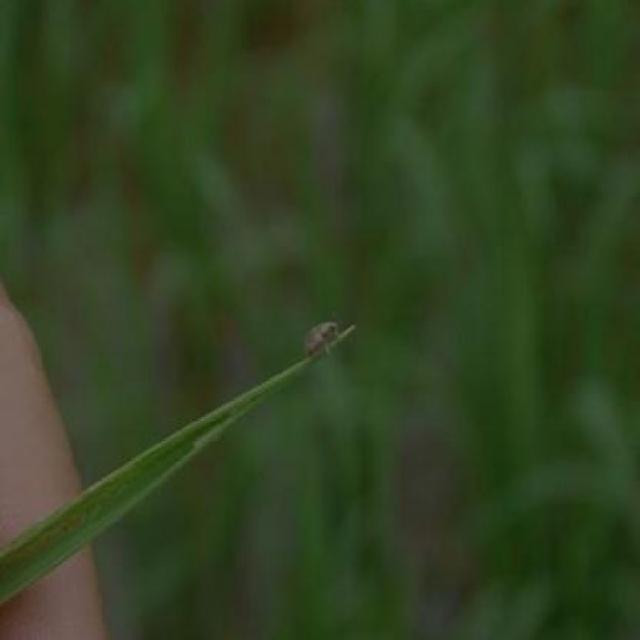rice-bug: (308, 315, 346, 360)
